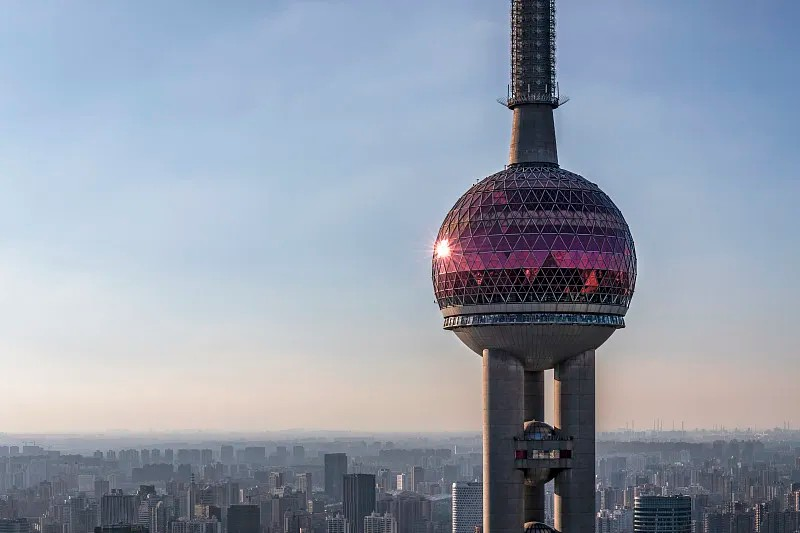Oriental: (432, 1, 637, 533)
